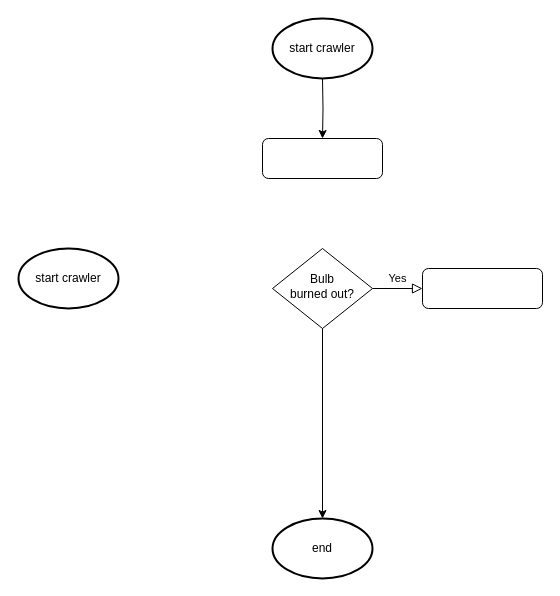
This 560x596 diagram has some shape labels left out. Here are the shapes that lost their labels. From the top down, the centre of each, then its label:
At point 322,158: "Plug in lamp".
At point 482,288: "Replace Bulb".
